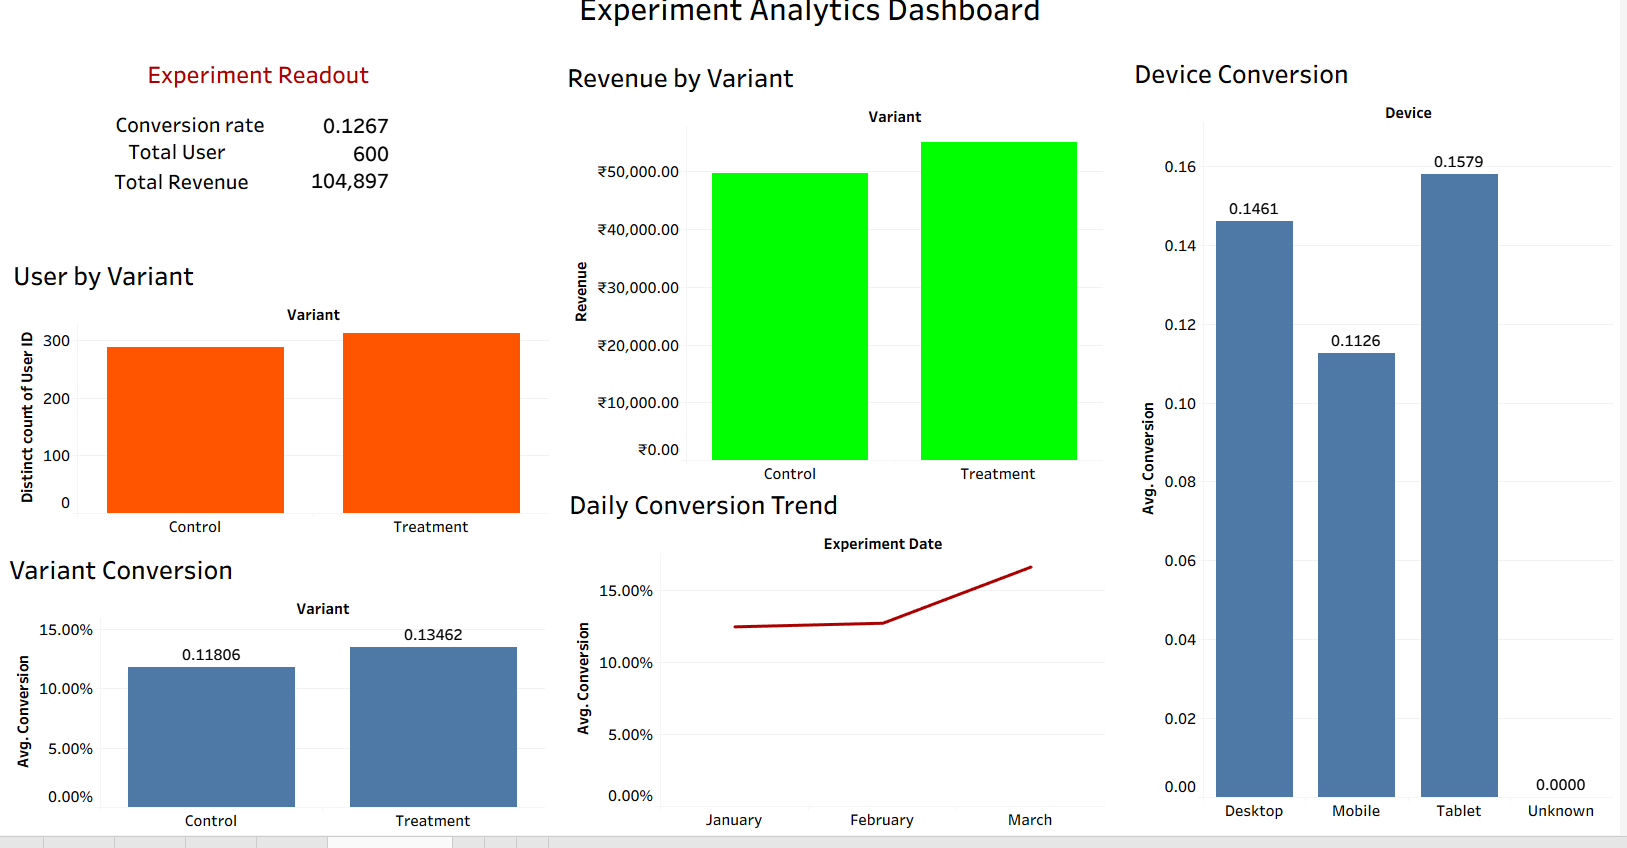

The dashboard page shown, as its layout file describes it:
{"tool":"tableau","page":{"name":"Dashboard 1","canvas":[1620,860],"ordinal":0},"visuals":[{"type":"title","box":[8,8,1604,49]},{"type":"worksheet","title":"Sheet 5","mark":"Automatic","rows":["Conversion"],"cols":["Device"],"box":[1130,77,483,770]},{"type":"worksheet","title":"Sheet 3","mark":"Automatic","rows":["Revenue"],"cols":["Variant"],"box":[563,81,540,429]},{"type":"text","box":[144,83,229,32]},{"type":"text","box":[112,134,157,30]},{"type":"worksheet","title":"Sheet 6","mark":"Automatic","box":[293,137,102,95]},{"type":"text","box":[125,161,104,30]},{"type":"text","box":[111,191,141,30]},{"type":"worksheet","title":"Sheet 2","mark":"Automatic","rows":["User_ID"],"cols":["Variant"],"box":[9,279,540,284]},{"type":"worksheet","title":"Sheet 4","mark":"Automatic","rows":["Conversion"],"cols":["Experiment_Date"],"box":[565,508,540,348]},{"type":"worksheet","title":"Sheet 1","mark":"Automatic","rows":["Conversion"],"cols":["Variant"],"box":[5,573,540,284]}]}

Visuals, with their boxes in screenshot pixels (x1, y1, x2, y2), scaled from the page's 1620x860 canvas onto the 1627x848 screenshot:
title: x1=8, y1=8, x2=1619, y2=56
"Sheet 5" worksheet: x1=1135, y1=76, x2=1620, y2=835
"Sheet 3" worksheet: x1=565, y1=80, x2=1108, y2=503
text: x1=145, y1=82, x2=375, y2=113
text: x1=112, y1=132, x2=270, y2=162
"Sheet 6" worksheet: x1=294, y1=135, x2=397, y2=229
text: x1=126, y1=159, x2=230, y2=188
text: x1=111, y1=188, x2=253, y2=218
"Sheet 2" worksheet: x1=9, y1=275, x2=551, y2=555
"Sheet 4" worksheet: x1=567, y1=501, x2=1110, y2=844
"Sheet 1" worksheet: x1=5, y1=565, x2=547, y2=845
